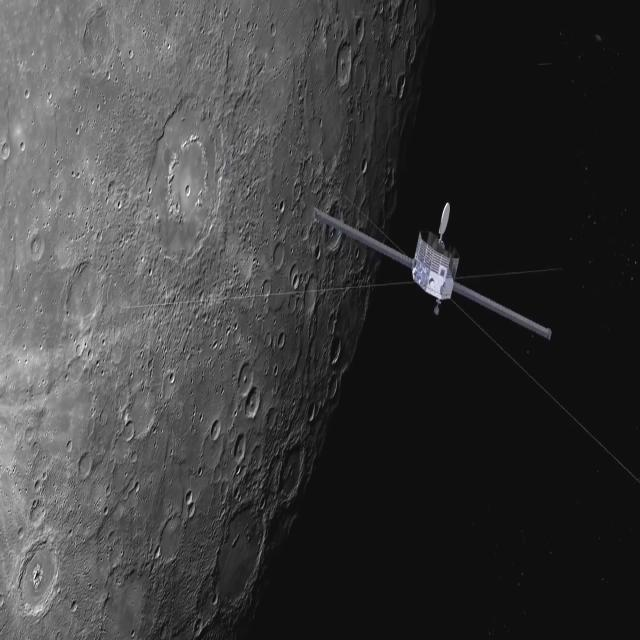satellite: (306, 190, 555, 377)
